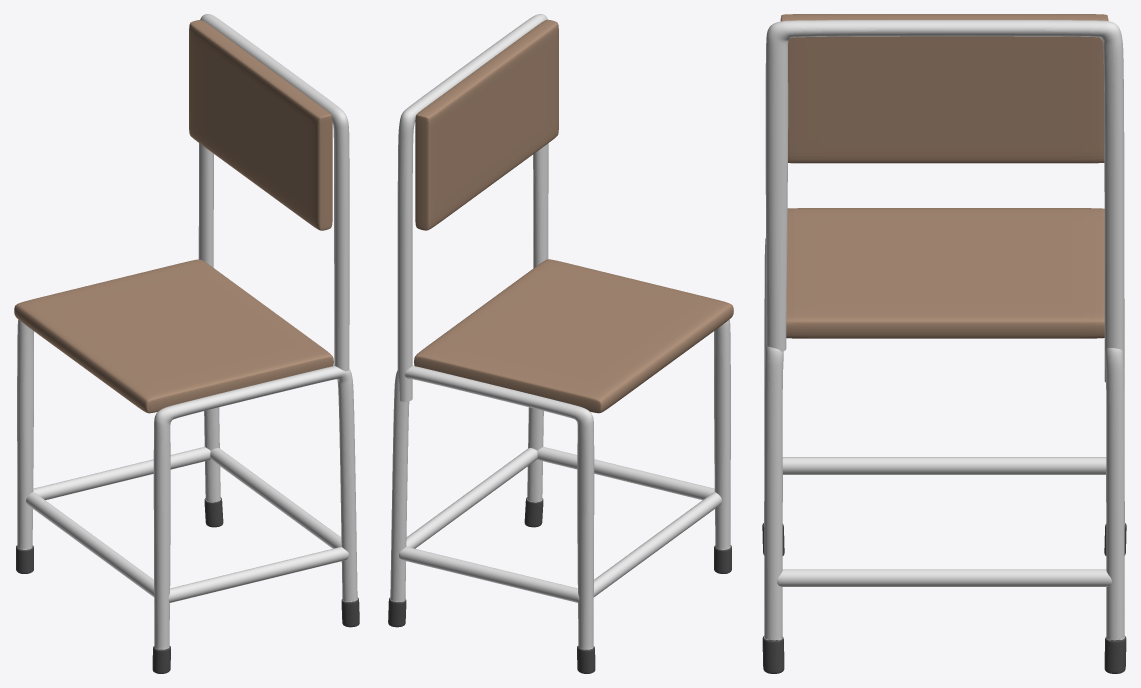
File: school_chair.fbx
3 views of the same model, side by side, from view 1: azimuth 30°, elevation 25°; view 2: azimuth 150°, elevation 25°; view 3: azimuth 270°, elevation 25° (orthographic). The views are drawn at different scales.
Parts seen in each view (by area): view 1: 天板.001, 天板.002, 足.001, 足.002, 横棒.001, 奧棒.002, 奧棒.001; view 2: 天板.001, 天板.002, 足.001, 足.002, 横棒.001, 奧棒.002, 奧棒.001; view 3: 天板.002, 天板.001, 足.002, 足.001, 奧棒.002, 奧棒.001.
Part boxes in pixels (x1,y1,x2,y2): 天板.001: (14, 259, 333, 413); 天板.002: (189, 20, 332, 230); 足.001: (16, 319, 359, 673); 足.002: (198, 14, 349, 371); 横棒.001: (33, 447, 348, 602); 奧棒.002: (210, 448, 341, 548); 奧棒.001: (26, 492, 154, 597); 天板.001: (414, 259, 733, 413); 天板.002: (415, 19, 558, 230); 足.001: (388, 319, 731, 673); 足.002: (397, 14, 548, 401); 横棒.001: (399, 446, 714, 602); 奧棒.002: (406, 448, 537, 548); 奧棒.001: (593, 492, 721, 597); 天板.002: (780, 14, 1108, 163); 天板.001: (786, 208, 1104, 338); 足.002: (765, 20, 1124, 382); 足.001: (762, 238, 1126, 673); 奧棒.002: (777, 569, 1111, 586); 奧棒.001: (782, 457, 1106, 474).
Bounding box in the file's own units: 1.71 × 3.99 × 2.04.
